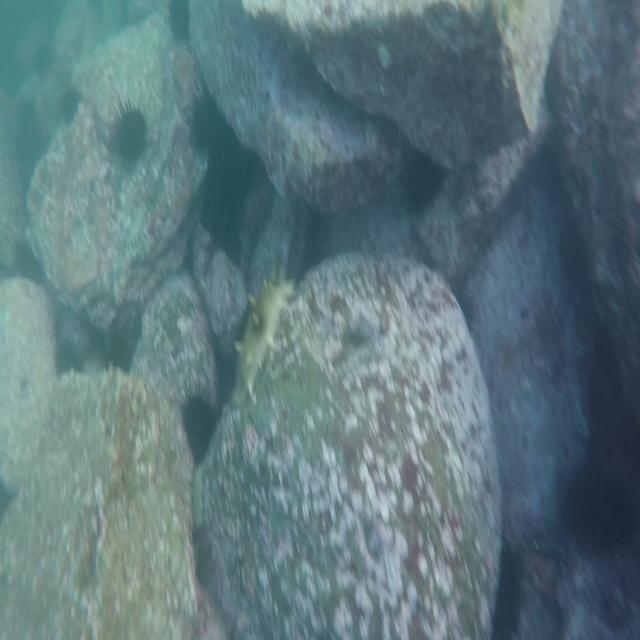echinus: (556, 462, 629, 556), (481, 538, 522, 634), (104, 90, 151, 166), (178, 384, 218, 465), (182, 78, 227, 146), (406, 155, 444, 211), (14, 240, 48, 285), (54, 82, 86, 123)
holothurian: (232, 274, 293, 403)
